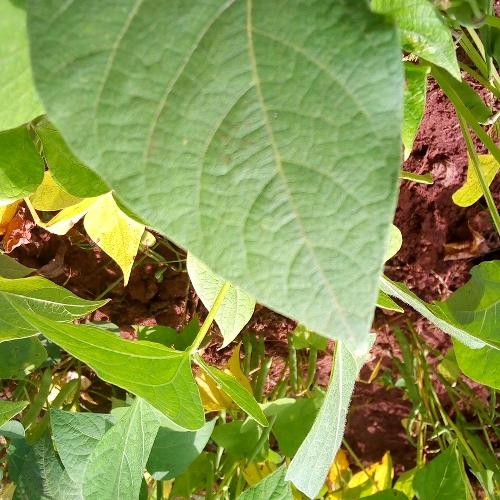sehat: (118, 22, 368, 244)
